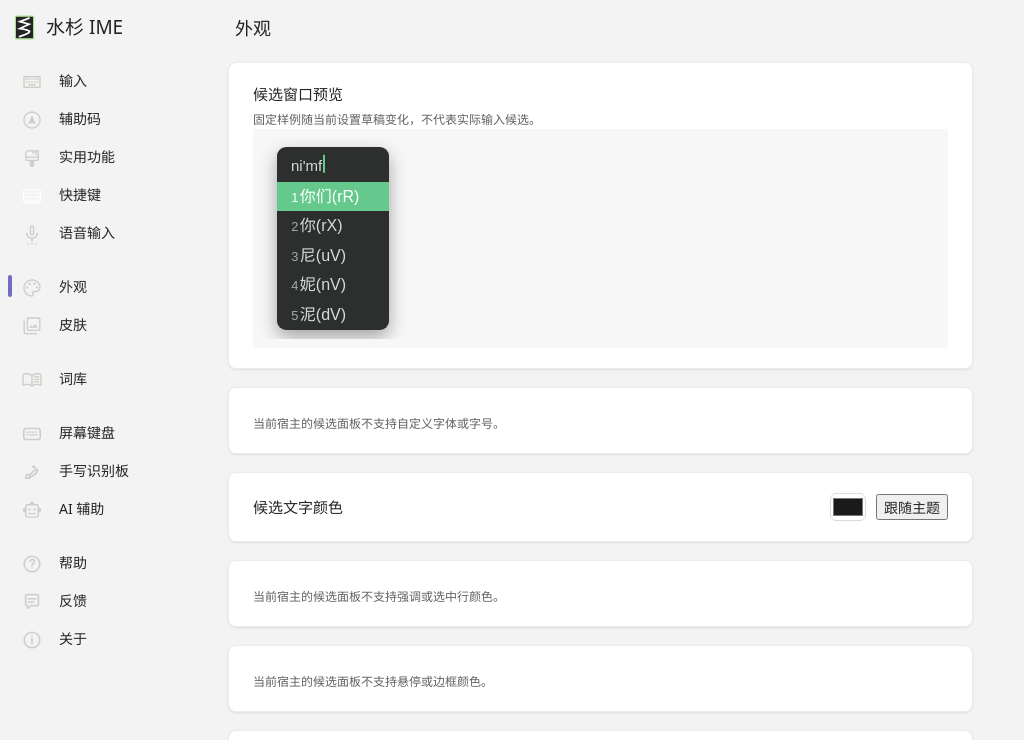
Scenario: macOS keeps voice submission in the native input-method process
Click the button "语音输入": (68, 232) [8, 214, 127, 250]
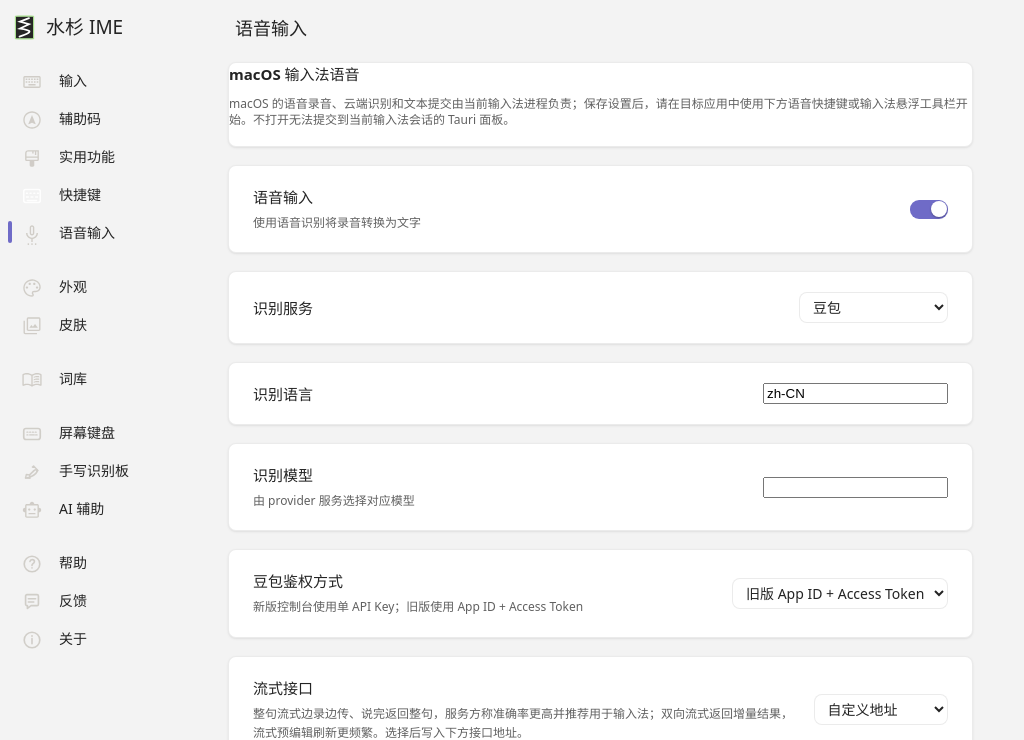
Check: the text "macOS 输入法语音" is shown, box [229, 64, 360, 84]
Check: the text "由当前输入法进程负责" is shown, box [229, 95, 968, 128]
